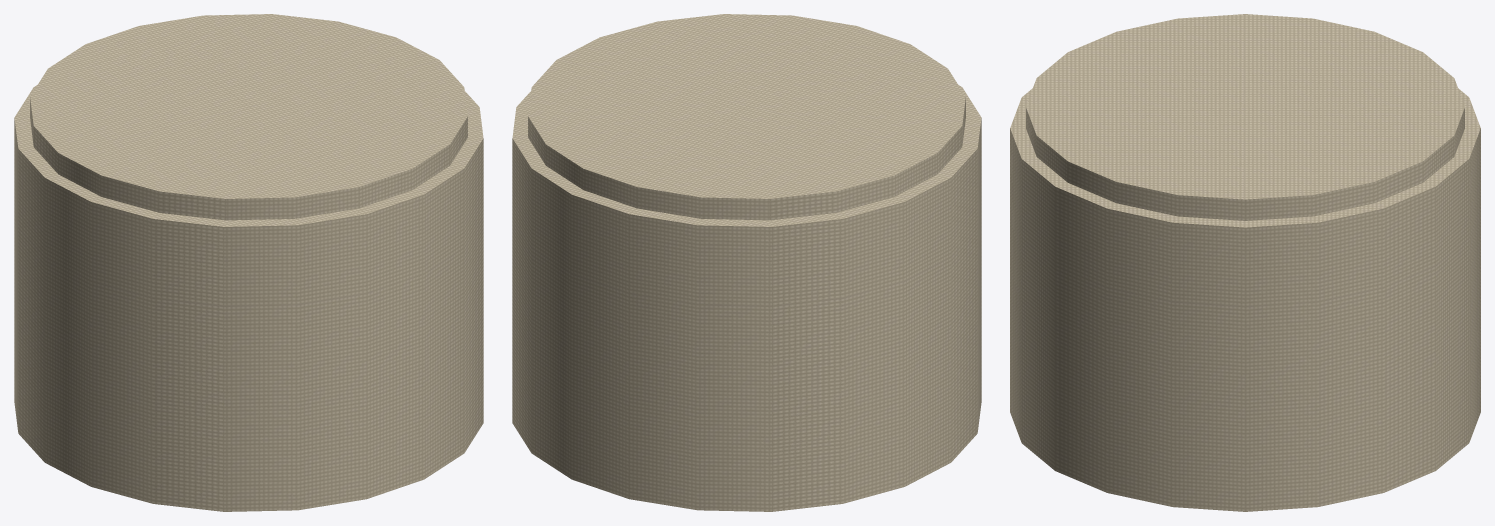
3 views of the same model, side by side, from view 1: azimuth 30°, elevation 25°; view 2: azimuth 150°, elevation 25°; view 3: azimuth 270°, elevation 25° (orthographic).
Visible parts, largest first — view 1: Decor_pouf_knit; view 2: Decor_pouf_knit; view 3: Decor_pouf_knit.
Part boxes in pixels (x1,y1,x2,y2): Decor_pouf_knit: [14, 14, 483, 511]; Decor_pouf_knit: [512, 14, 981, 511]; Decor_pouf_knit: [1010, 14, 1480, 511].
Bounding box in the file's own units: 0.6 × 0.43 × 0.6.
1 material, 1 textured.
